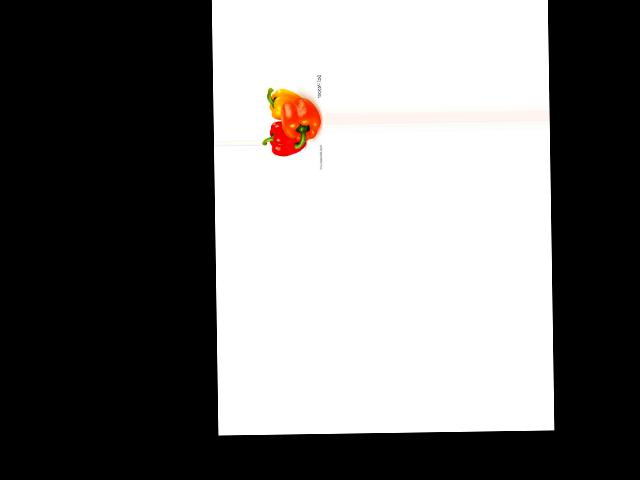bell_pepper: (265, 85, 302, 121)
